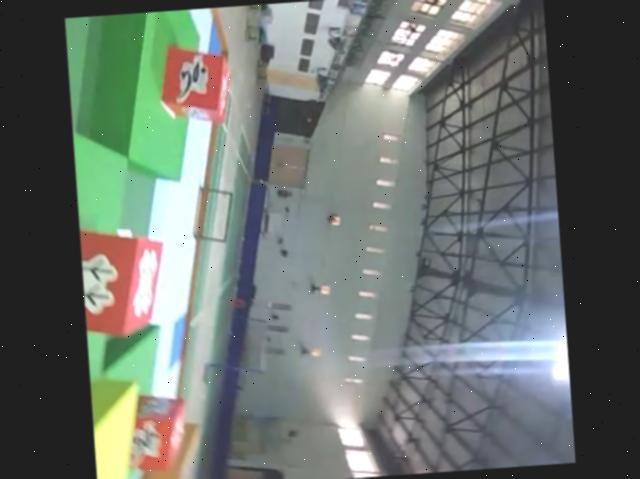R1: (116, 387, 191, 475), (158, 41, 235, 126)
R2 Real: (79, 217, 169, 340)
